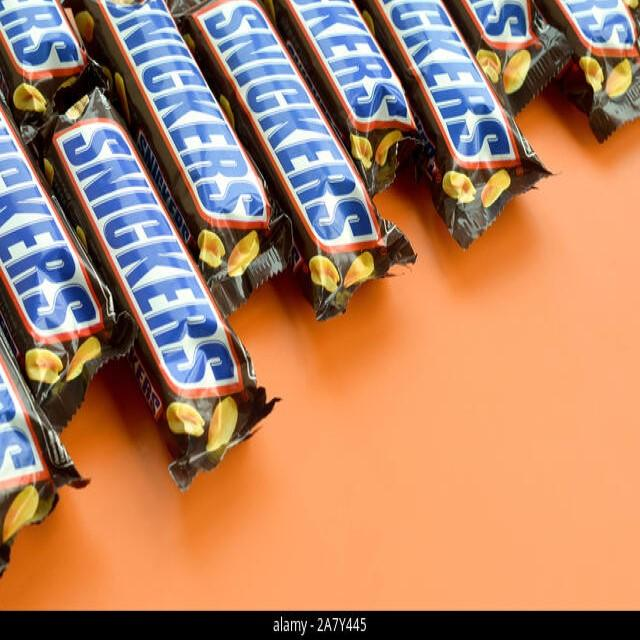snickers_chocolate: (0, 1, 263, 526), (136, 0, 345, 408), (235, 0, 383, 321), (401, 0, 520, 203), (338, 0, 418, 270), (575, 0, 626, 143)
